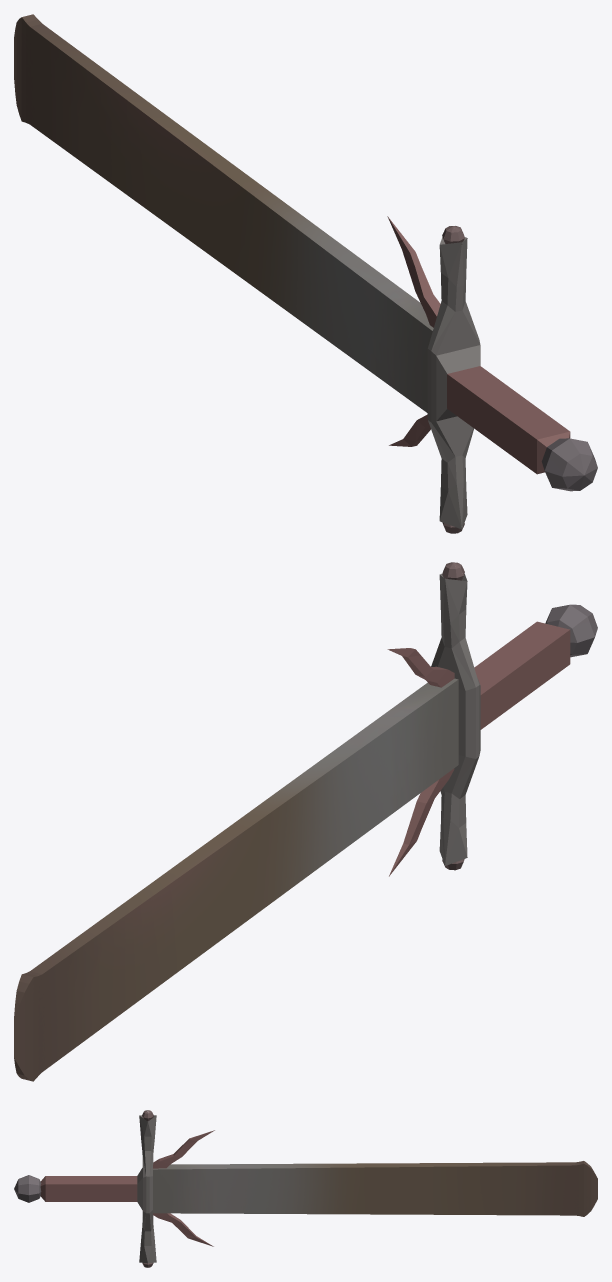
Rendered from Sword.obj.
3 views of the same model, one above another, from view 1: azimuth 30°, elevation 25°; view 2: azimuth 150°, elevation 25°; view 3: azimuth 270°, elevation 25° (orthographic). The views are drawn at different scales.
Parts seen in each view (by area): view 1: 立方体.003; view 2: 立方体.003; view 3: 立方体.003.
Part boxes in pixels (left/top/right/bottom): 立方体.003: left=14, top=14, right=597, bottom=533; 立方体.003: left=14, top=562, right=597, bottom=1081; 立方体.003: left=14, top=1110, right=597, bottom=1267.
Size of the model in its own units: 0.4083 by 2.38 by 8.
1 material, 1 textured.
